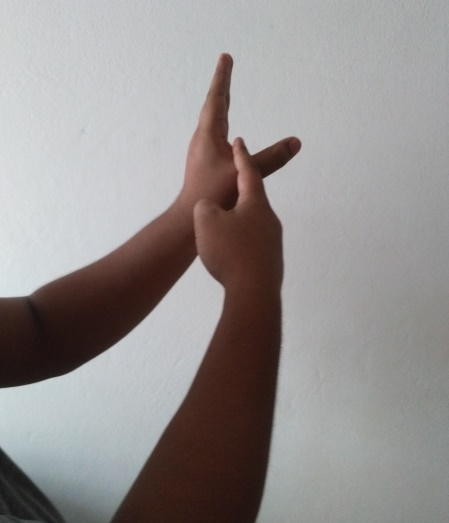dh: (180, 52, 303, 291)
